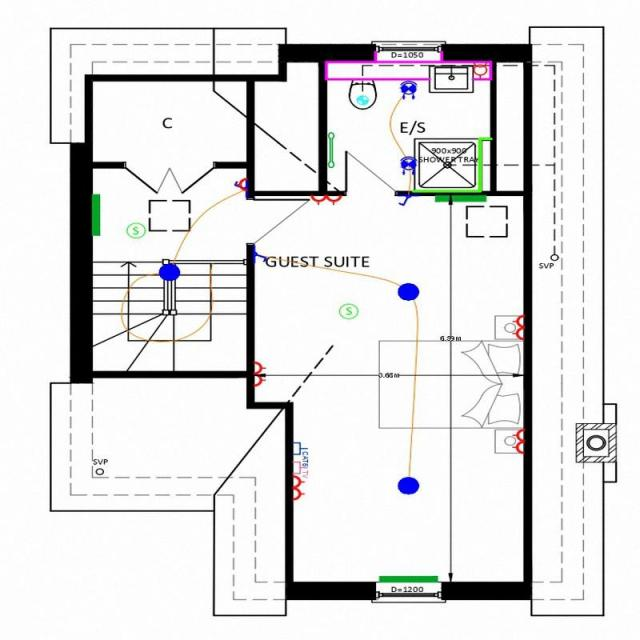Cat 6 Data Socket: (293, 442, 307, 460)
Ceiling Mounted Continuous Extract FanWith Boost Mode Activated By Light Switch: (356, 94, 368, 105)
Double Socket: (308, 192, 342, 205), (292, 474, 305, 501), (510, 313, 522, 342), (511, 427, 524, 453), (254, 360, 266, 386)
Full Height Tiling: (413, 137, 490, 193)
Light Switch: (252, 250, 266, 264), (235, 179, 248, 192), (396, 194, 410, 206)
Low Energy Downlighter: (398, 153, 416, 175), (400, 79, 415, 100)
Low Energy Pendant Light: (156, 262, 180, 280), (396, 476, 418, 494), (397, 282, 418, 300)
Mains Wired Smoke Detector: (124, 221, 146, 238), (338, 302, 358, 318)
Radiator: (378, 574, 438, 582), (434, 194, 486, 202), (91, 193, 99, 235)
Shaver Socket: (472, 62, 487, 78)
Single Socket: (232, 178, 245, 190)
TV - Satellite Multisocket: (290, 460, 306, 473)
